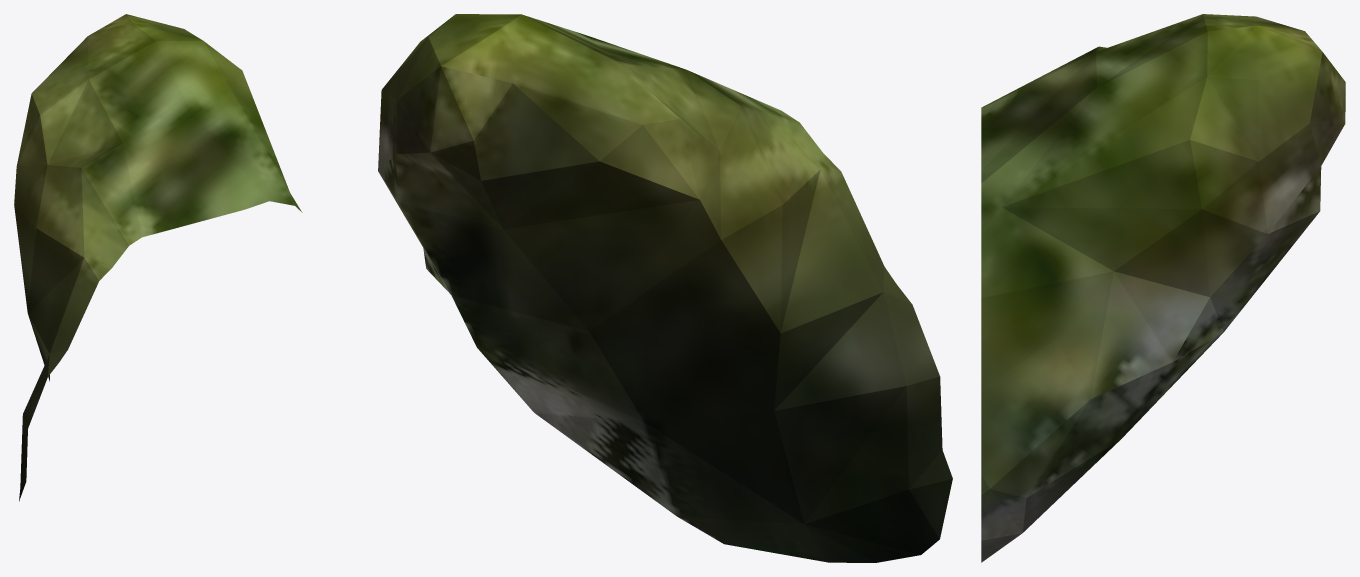
3 renders of one model, left to right at view 1: azimuth 30°, elevation 25°; view 2: azimuth 150°, elevation 25°; view 3: azimuth 270°, elevation 25°, orthographic. The views are drawn at different scales.
Size of the model in its own units: 0.2277 by 0.2842 by 0.1657.
Materials: 1 (1 with a texture image).
